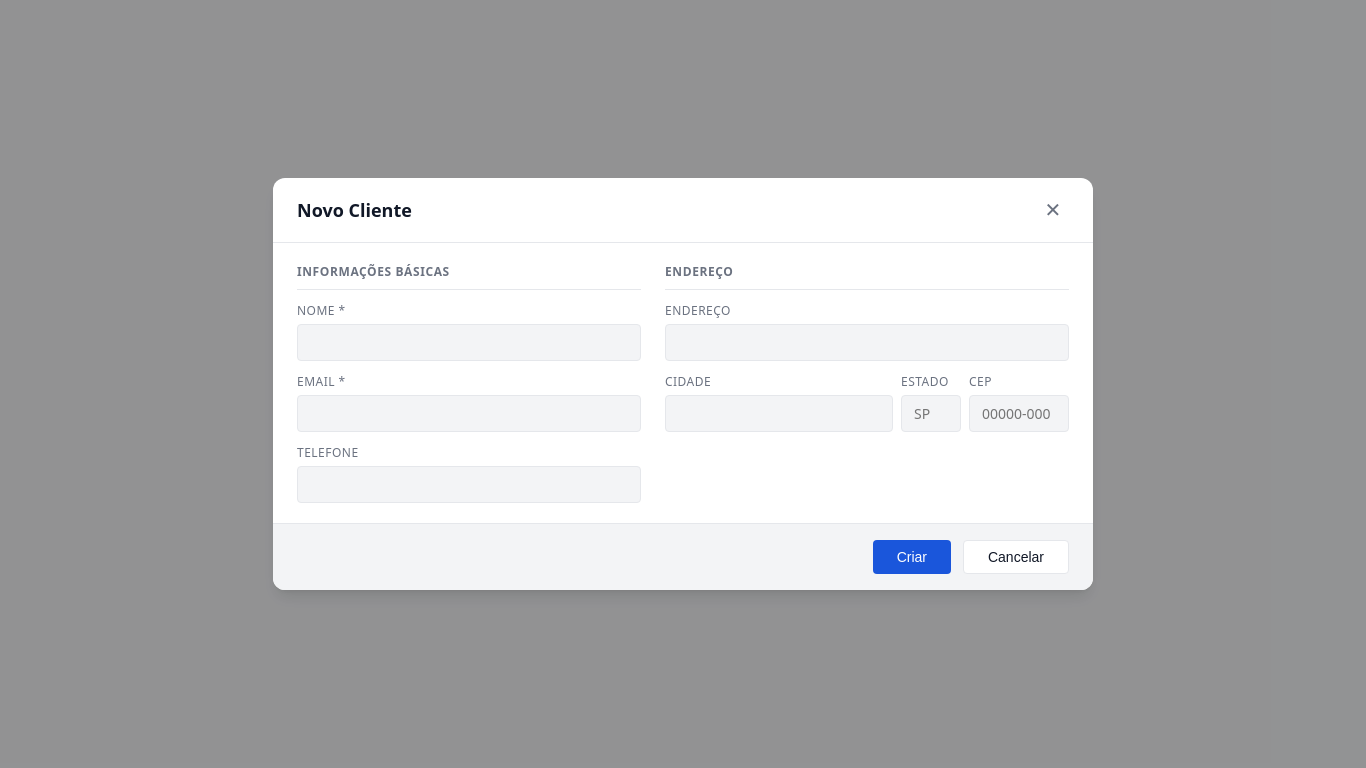
CustomerForm Component › exibe erro de email inválido
Step 1. Type "email-invalido" into the field with test id "customer-email-input" → (469, 414), box [297, 395, 641, 432]
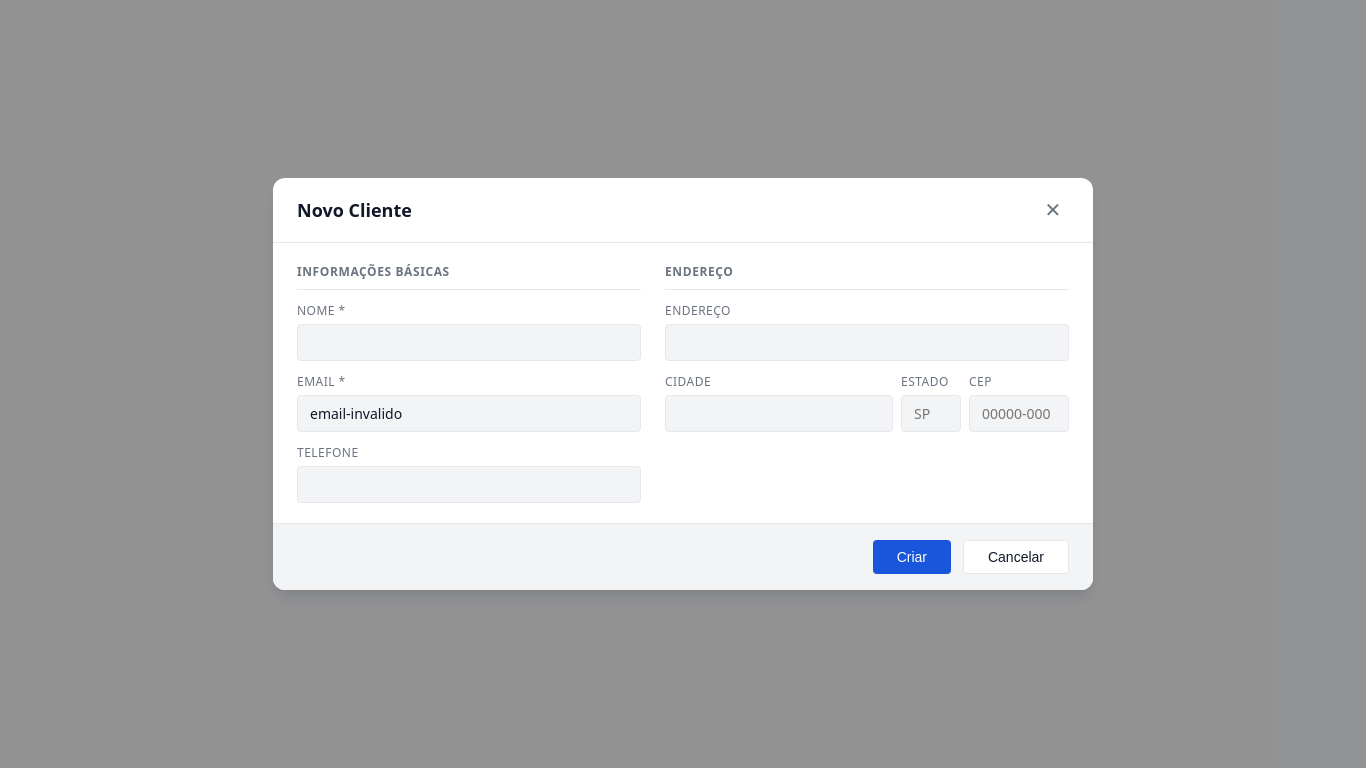
Step 2. Click the button with test id "submit-customer-form" → click(912, 557), box [873, 540, 951, 574]
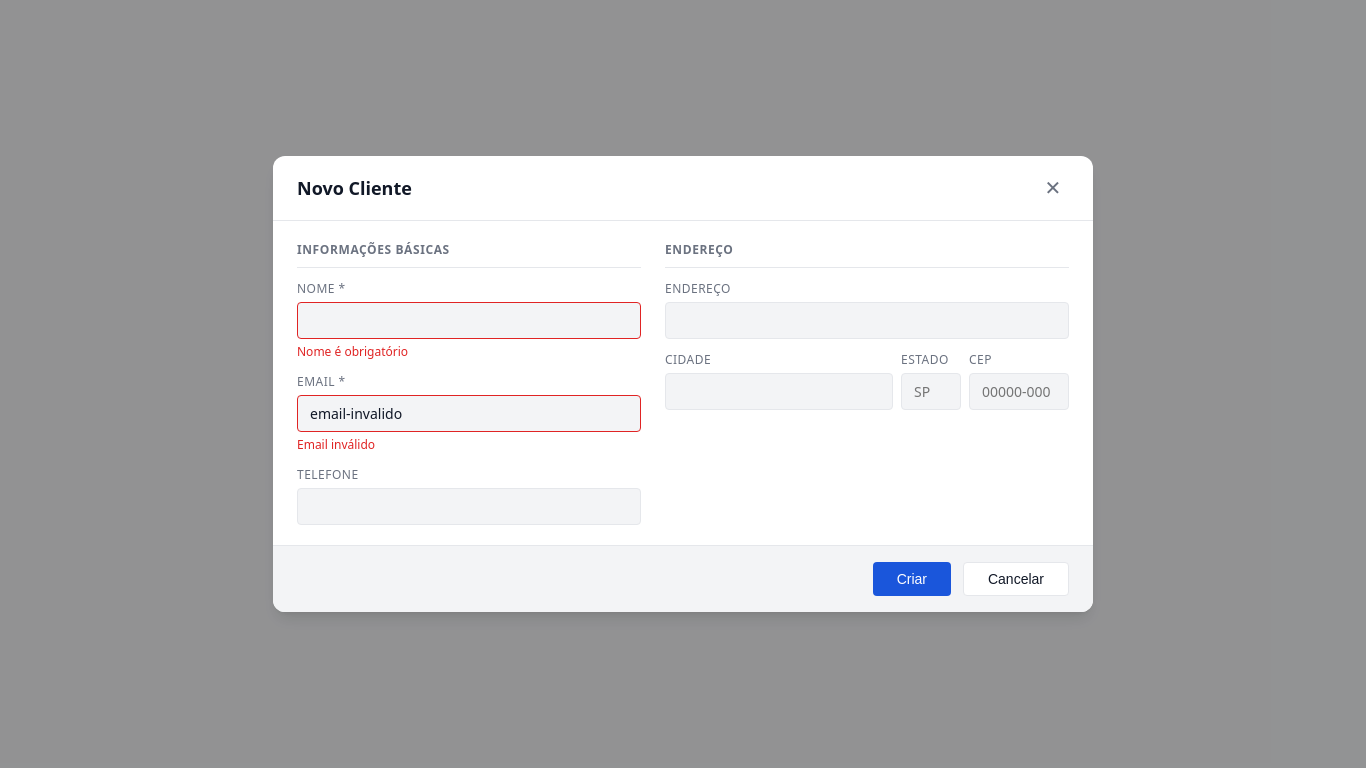
Now the text "Email inválido" is shown, box [297, 436, 375, 453]
